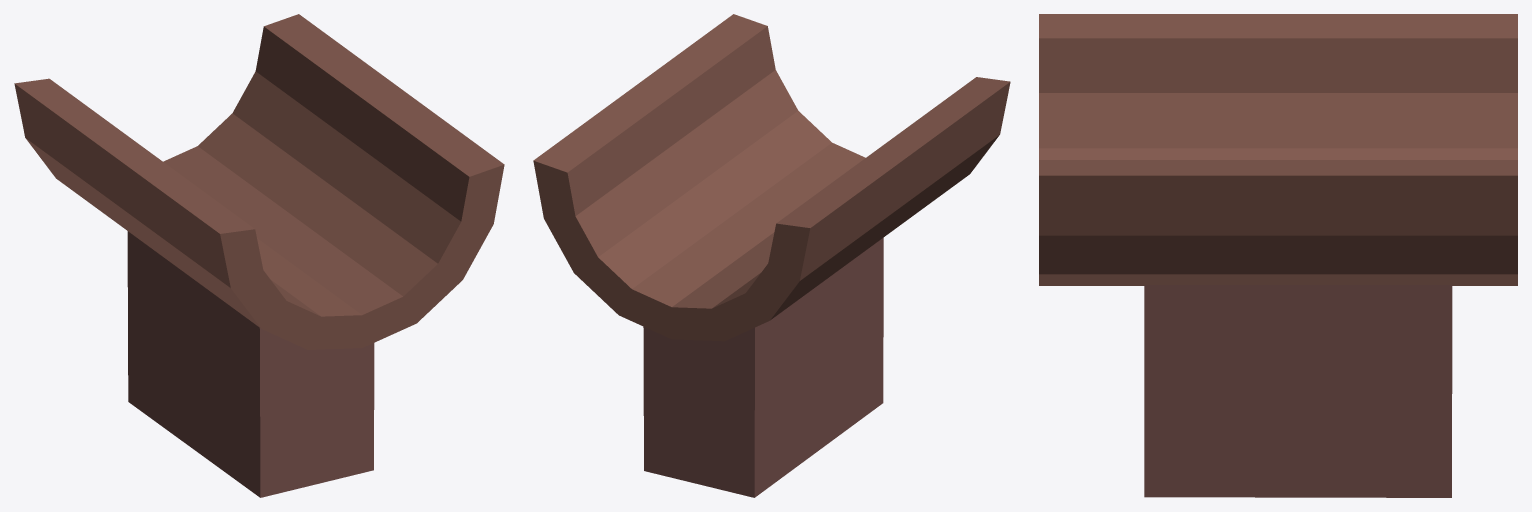
The model's file is SM_Tank_04_Turret.fbx.
3 views of the same model, side by side, from view 1: azimuth 30°, elevation 25°; view 2: azimuth 150°, elevation 25°; view 3: azimuth 270°, elevation 25° (orthographic). The views are drawn at different scales.
Parts seen in each view (by area): view 1: SM_Tank_04_Turret; view 2: SM_Tank_04_Turret; view 3: SM_Tank_04_Turret.
Part boxes in pixels (x1,y1,x2,y2): SM_Tank_04_Turret: [14, 14, 504, 497]; SM_Tank_04_Turret: [533, 14, 1010, 497]; SM_Tank_04_Turret: [1039, 14, 1517, 497].
Size of the model in its own units: 1.8 by 1.93 by 2.25.
